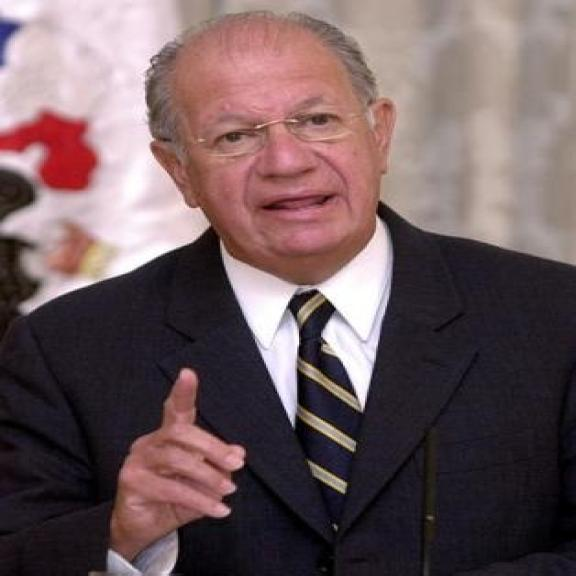face: (146, 58, 404, 264)
